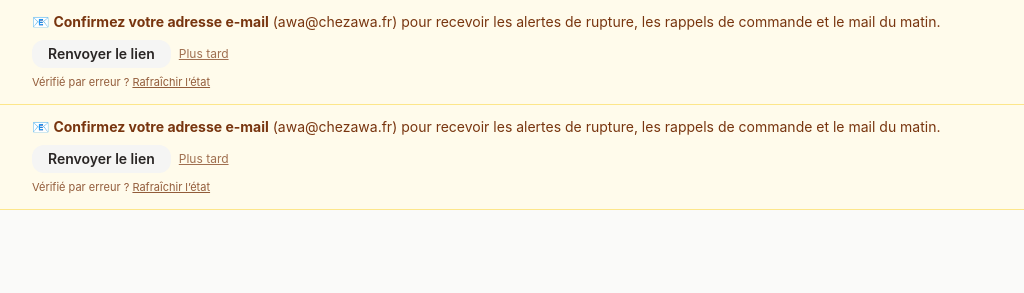
Test case: Bandeau « confirmez votre e-mail » › après clic, affiche la réponse du serveur et le lien généré
Step 1. Click the 2nd button "Renvoyer le lien" → (101, 159), box left=32, top=145, right=171, bottom=173
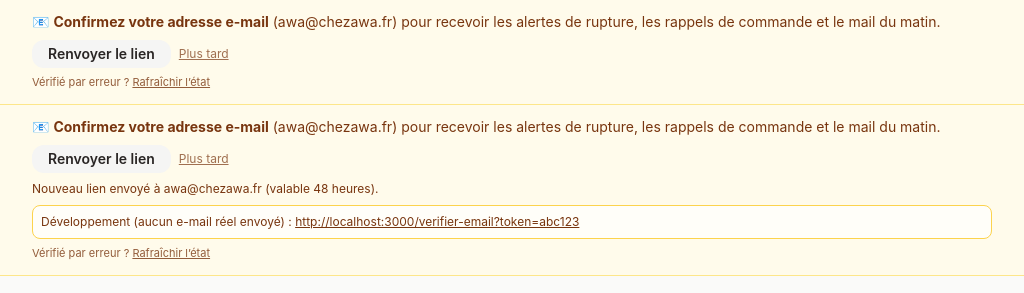
Expected: the text "Nouveau lien envoyé" is shown, left=32, top=181, right=378, bottom=196
Expected: the text "verifier-email?token=abc123" is shown, left=295, top=214, right=579, bottom=229
